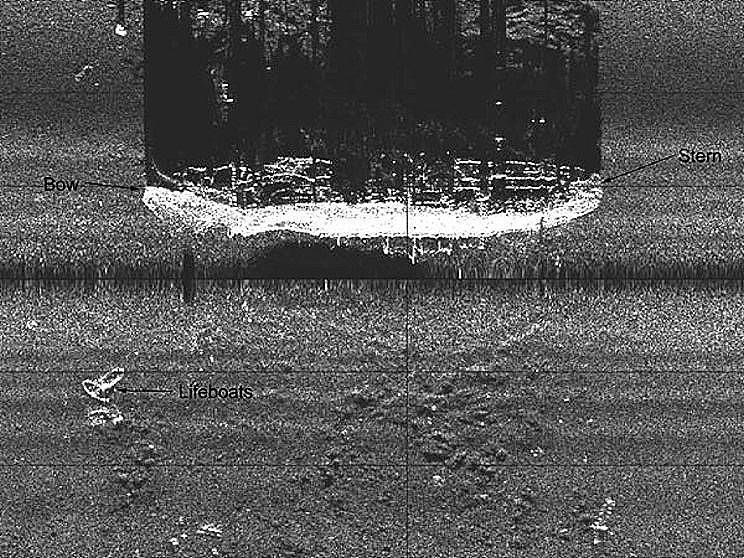ship: (140, 146, 605, 260)
